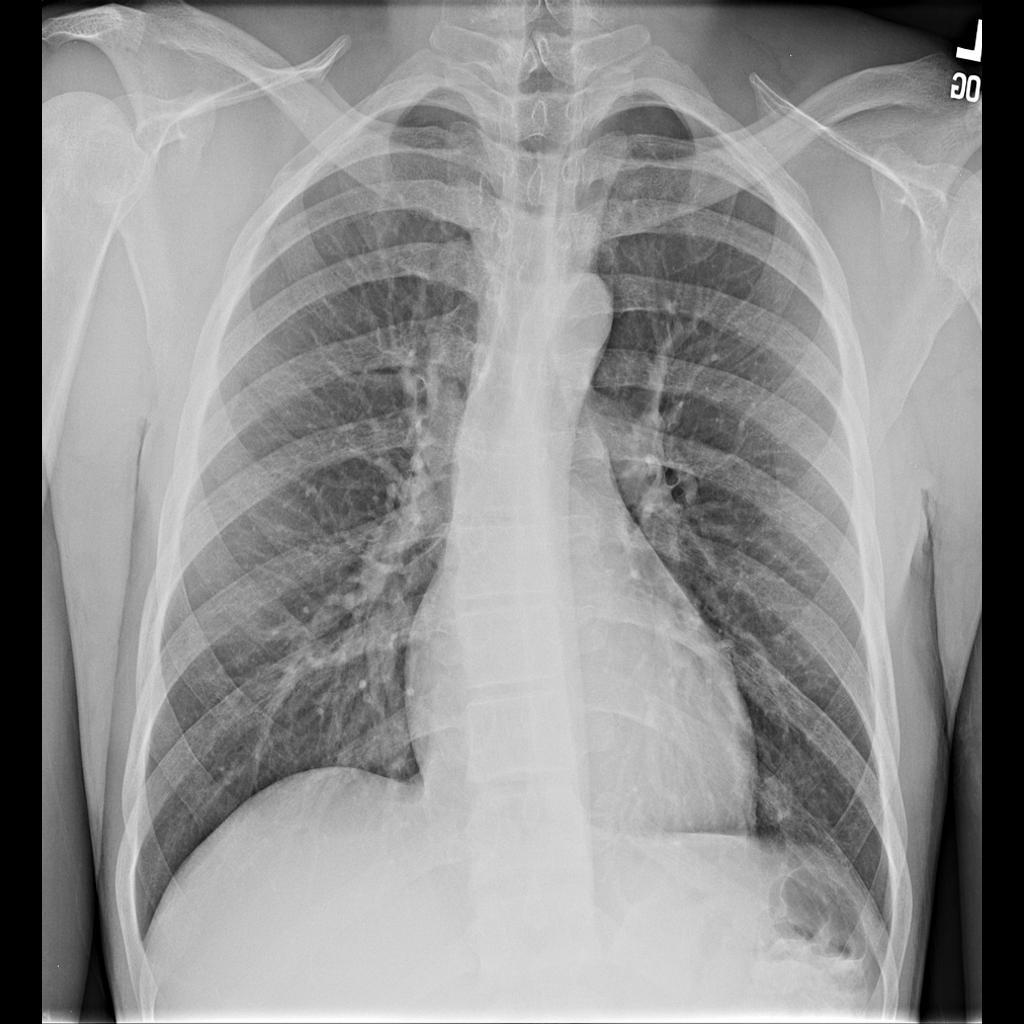Nodule: (749, 764, 797, 833)
